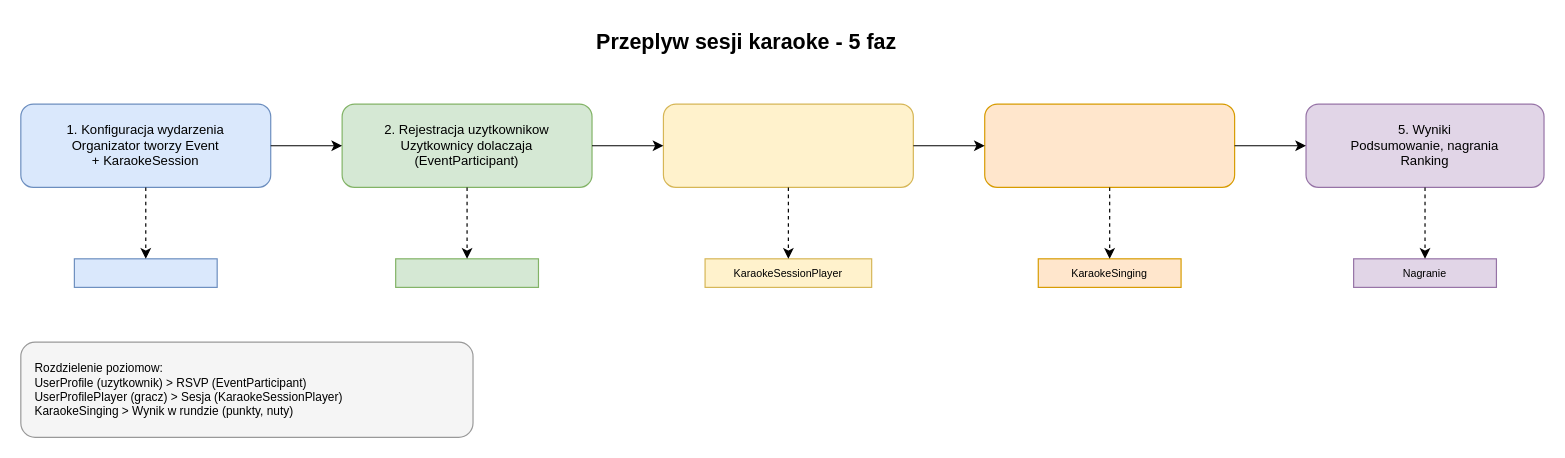
Image size: 1565x458. Some labels were removed from this diagram. Each missing label, with the box of its shape:
3. Dolaczenie do sesji Gracze dolaczaja (KaraokeSessionPlayer): (662, 103, 913, 187)
4. Rundy i spiewanie Piosenki w rundach Wynik, Nuty (real-time): (984, 103, 1235, 187)
Event: (73, 258, 217, 287)
EventParticipant: (394, 258, 538, 287)
